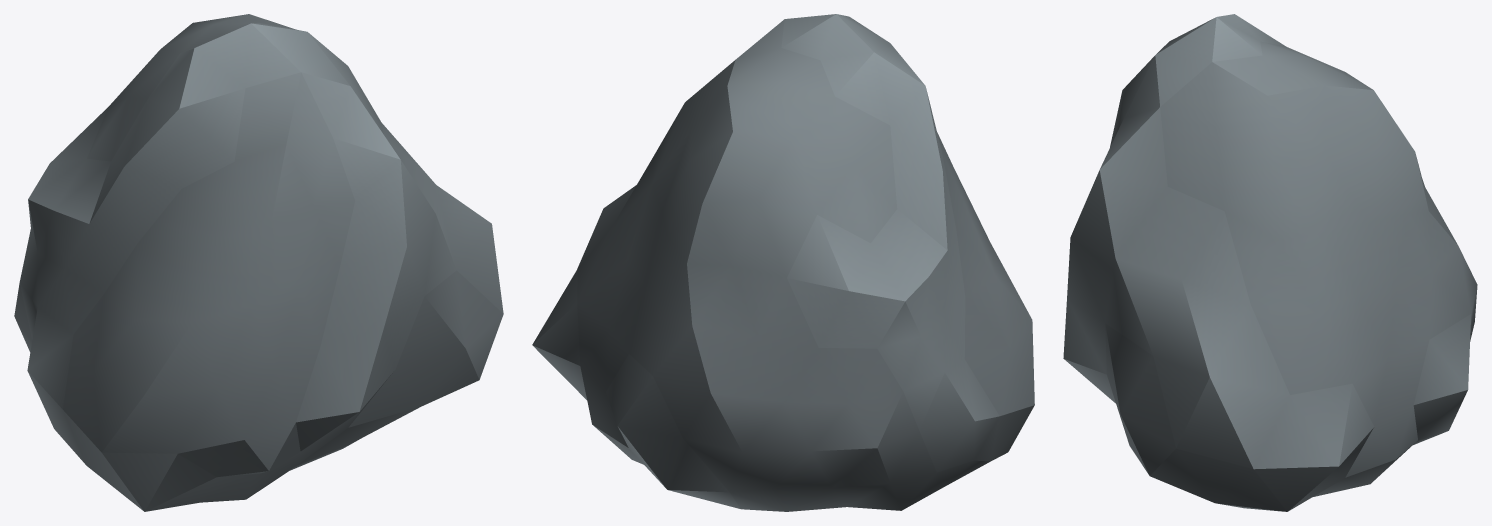
The model's file is Rock_3_O_Color1.glb.
3 views of the same model, side by side, from view 1: azimuth 30°, elevation 25°; view 2: azimuth 150°, elevation 25°; view 3: azimuth 270°, elevation 25° (orthographic). The views are drawn at different scales.
Visible parts, largest first — view 1: Rock_3_O_Color1; view 2: Rock_3_O_Color1; view 3: Rock_3_O_Color1.
Part boxes in pixels (x1,y1,x2,y2): Rock_3_O_Color1: (14,14,503,511); Rock_3_O_Color1: (532,14,1034,511); Rock_3_O_Color1: (1063,14,1477,511).
Bounding box in the file's own units: 3.48 × 3.47 × 2.93.
Materials: 1 (1 with a texture image).
